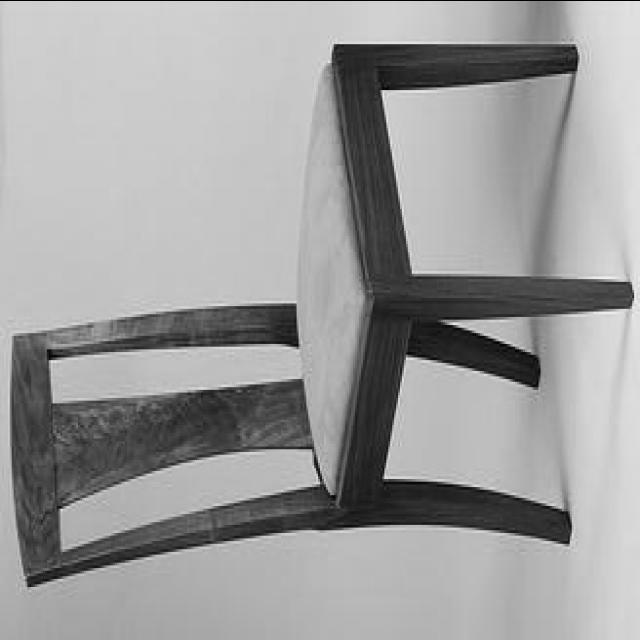chair: (6, 39, 632, 598)
